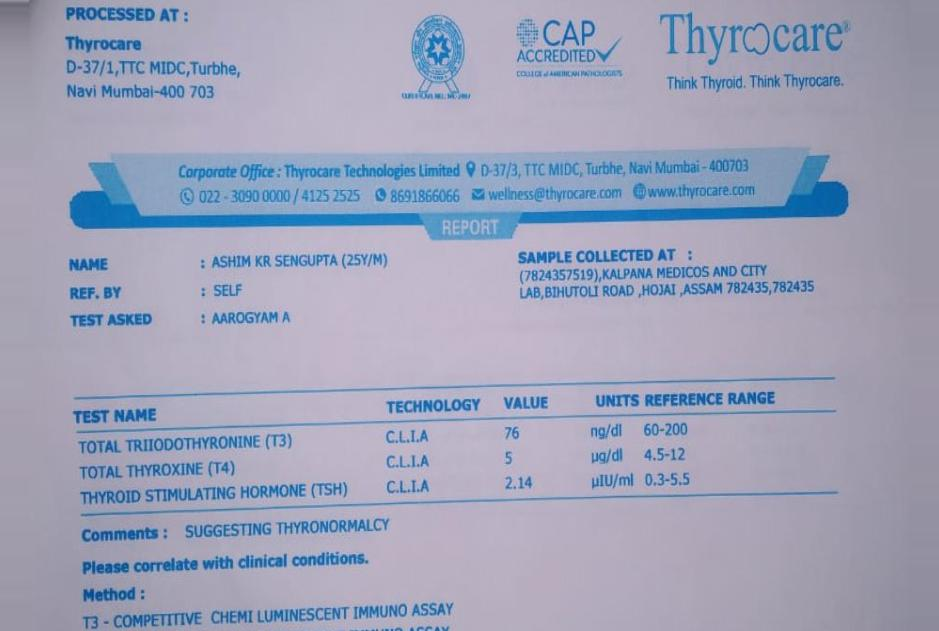Reference Range: (640, 414, 698, 495)
Test Name: (70, 426, 355, 513)
Units: (585, 416, 641, 497)
Value: (496, 418, 541, 501)
